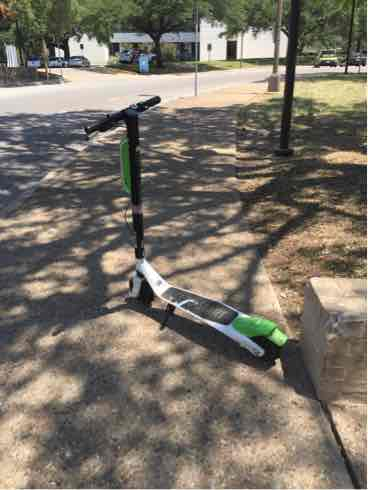scooter: (69, 85, 305, 359)
